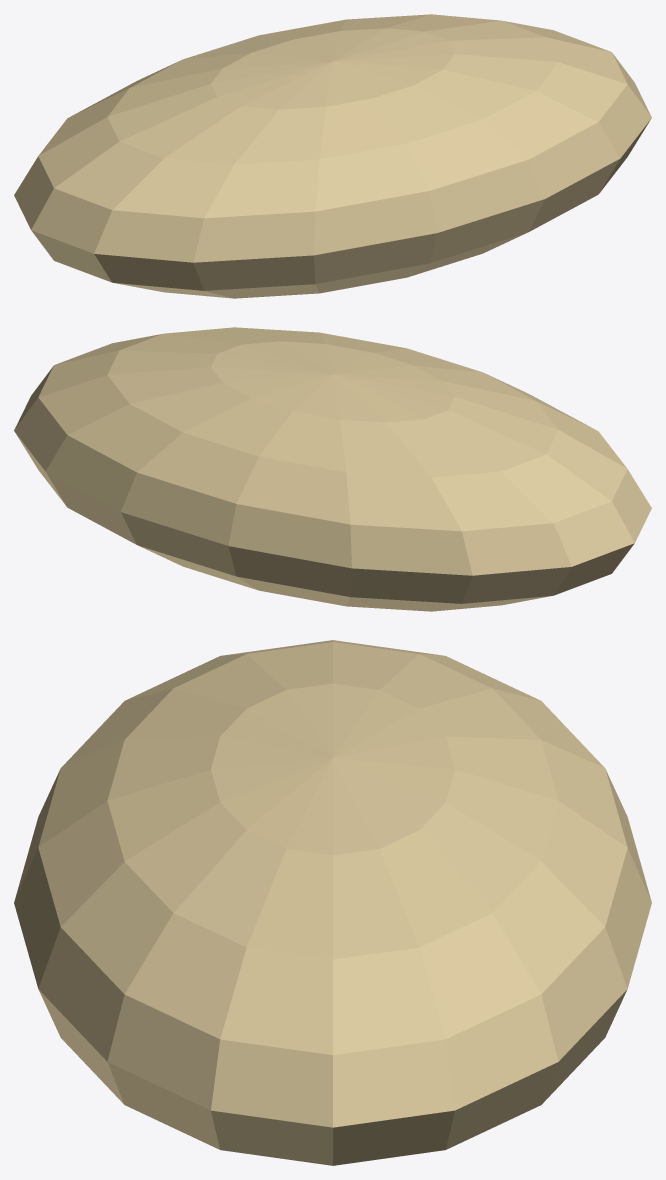
File: dune.glb
The picture shows the model from 3 angles, top to bottom: view 1: azimuth 30°, elevation 25°; view 2: azimuth 150°, elevation 25°; view 3: azimuth 270°, elevation 25°; orthographic projection. The views are drawn at different scales.
Parts seen in each view (by area): view 1: dune; view 2: dune; view 3: dune.
Boxes of the visible parts, x1,y1,x2,y2 form: dune: [14, 14, 651, 298]; dune: [14, 327, 651, 611]; dune: [14, 640, 651, 1165].
Bounding box in the file's own units: 60 × 18 × 36.
